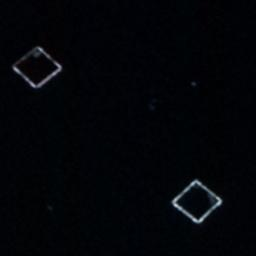square_solid: (170, 173, 228, 226), (11, 44, 68, 89)
